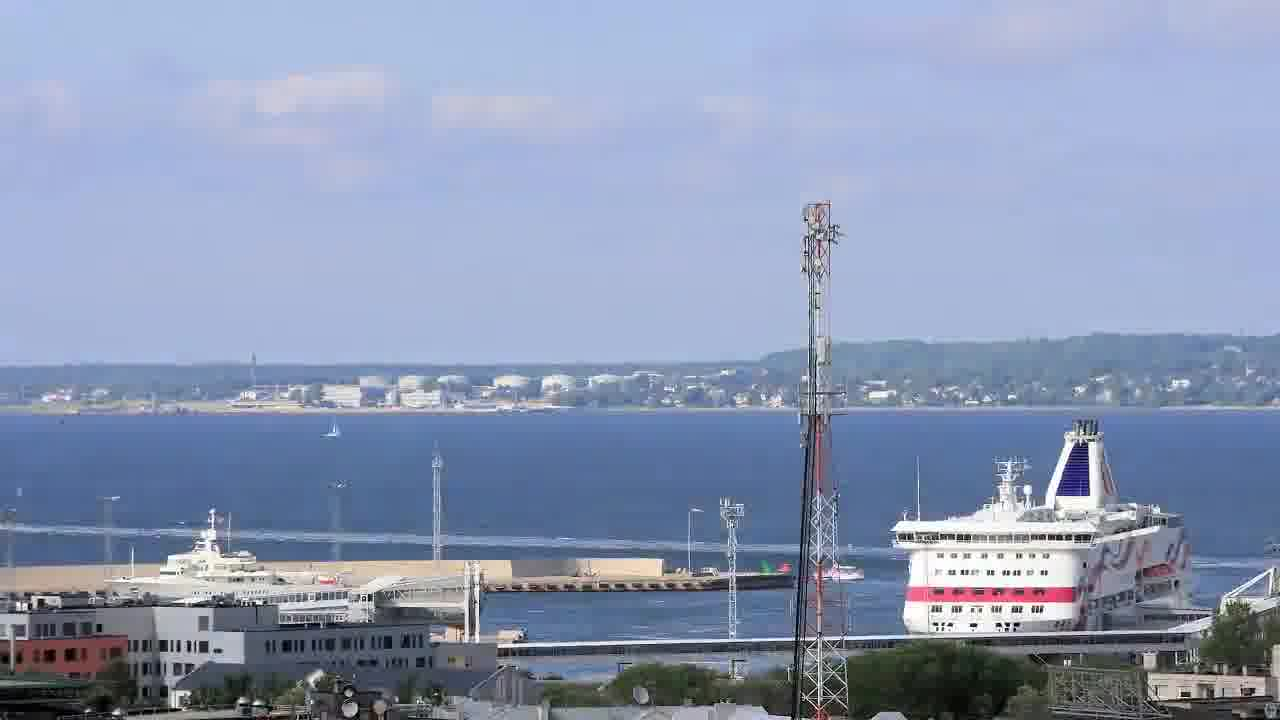type-0: (802, 552, 872, 590)
type-2: (309, 400, 352, 456)
type-3: (868, 415, 1225, 638), (84, 511, 353, 609)
